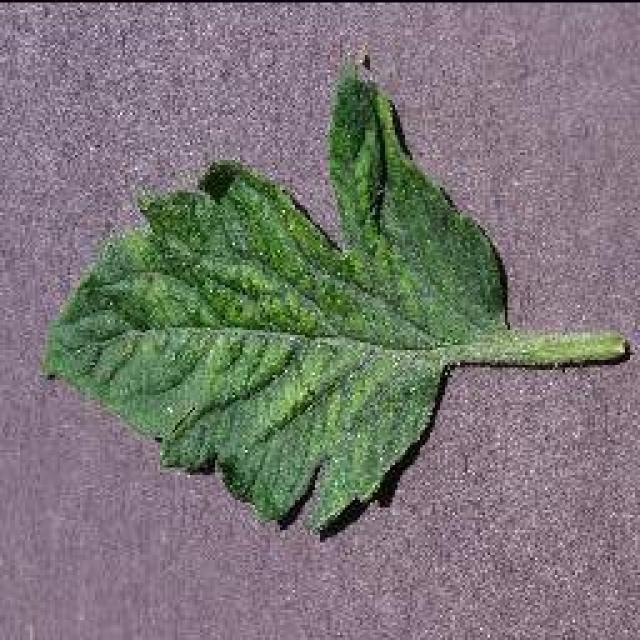Tomato___Tomato_mosaic_virus: (45, 70, 628, 530)
